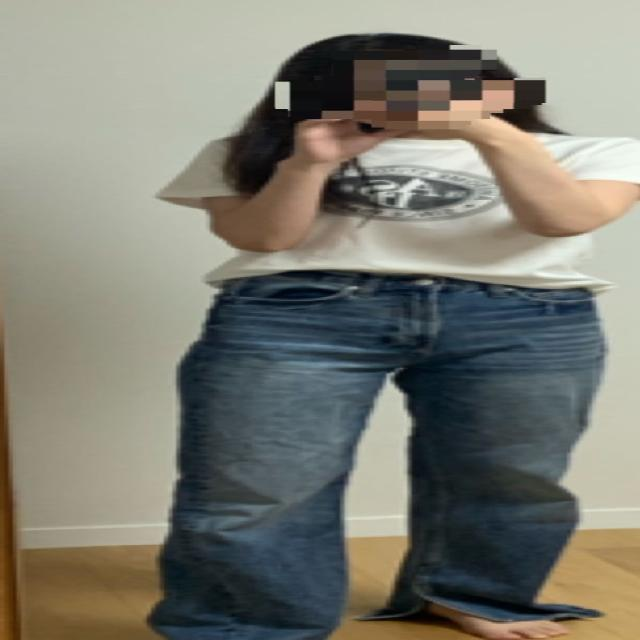denimpants: (161, 271, 600, 636)
shortsleeve: (177, 131, 640, 284)
